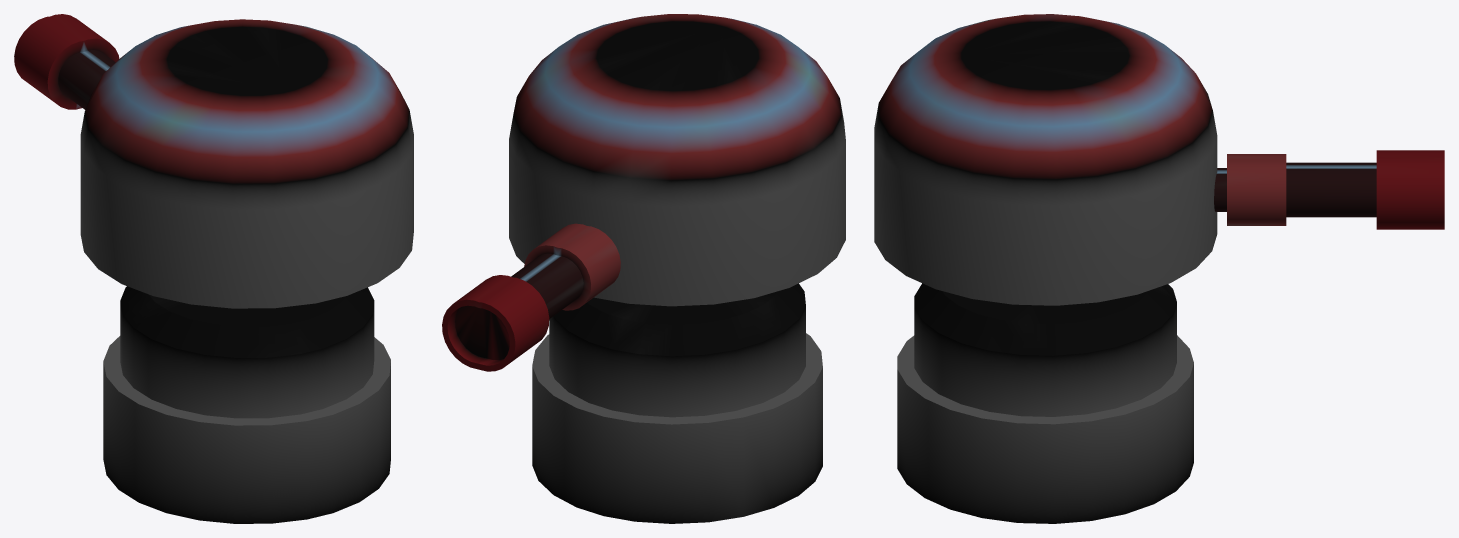
File: laser.fbx
The picture shows the model from 3 angles, left to right: view 1: azimuth 30°, elevation 25°; view 2: azimuth 150°, elevation 25°; view 3: azimuth 270°, elevation 25°; orthographic projection.
Visible parts, largest first — view 1: Cylinder.001; view 2: Cylinder.001; view 3: Cylinder.001.
Part boxes in pixels (bbox=[...]): Cylinder.001: bbox=[14, 14, 413, 523]; Cylinder.001: bbox=[442, 14, 845, 523]; Cylinder.001: bbox=[874, 14, 1444, 523].
Size of the model in its own units: 764 by 1018 by 1292.
